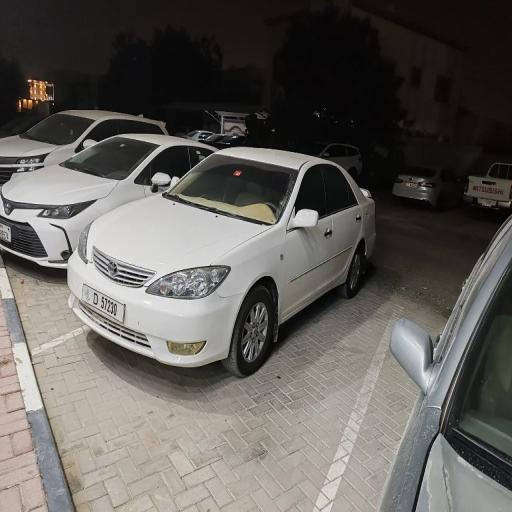license-plates: (82, 283, 124, 323), (0, 222, 11, 243)
